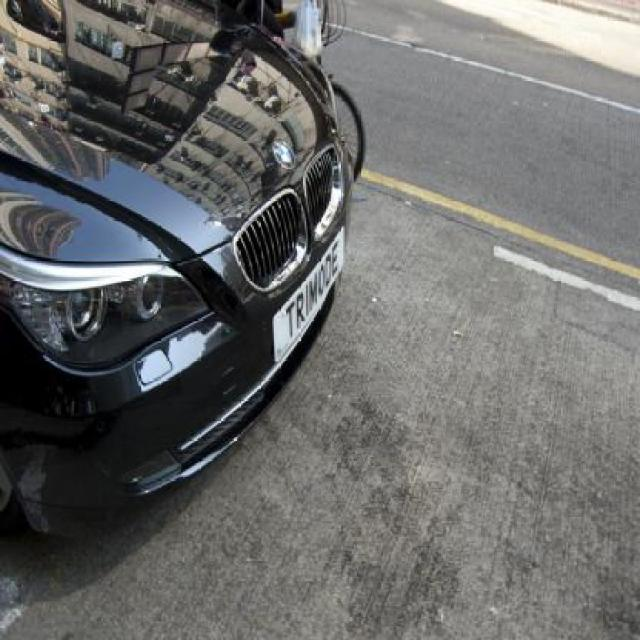License-Plates: (248, 223, 367, 385)
